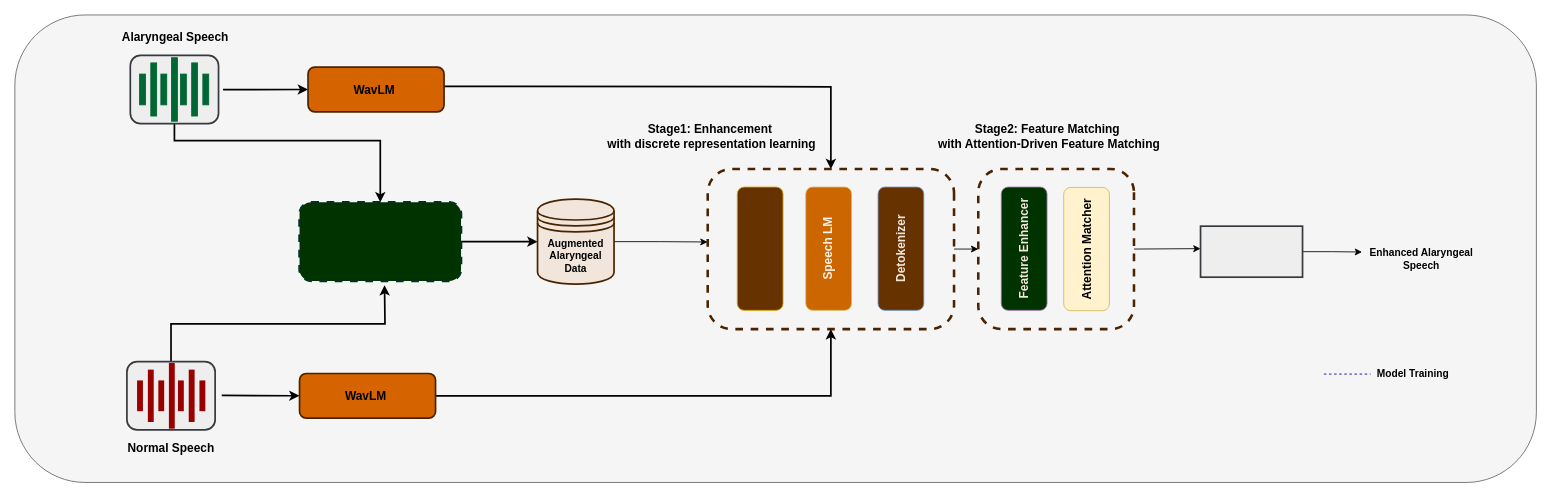
Some shapes in this 1556 by 497 pixel diagram are drawn without their labels. The box of each missing label's shape, as (x1, y1, x2, y2) in pixels:
k-Means Tokenizer: (736, 186, 783, 310)
MaskCycleGAN-VC + Timbre-Enhanced Loss: (298, 201, 462, 282)
Vocoder: (1199, 225, 1303, 278)
